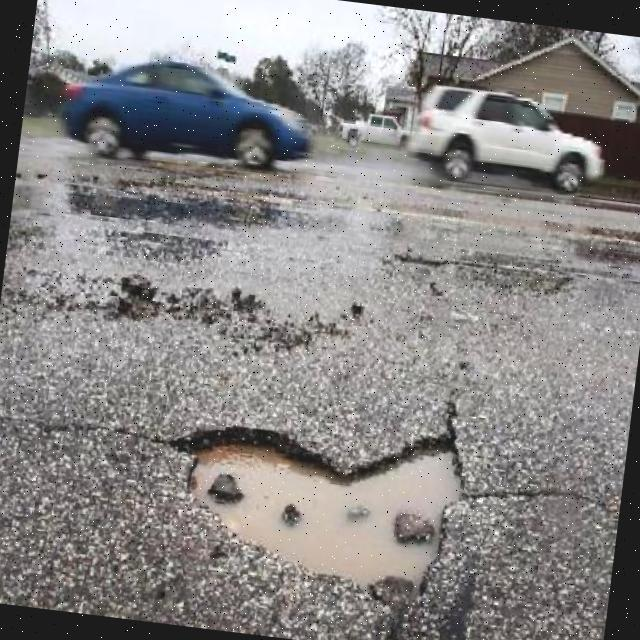Pothole: (170, 427, 461, 588)
